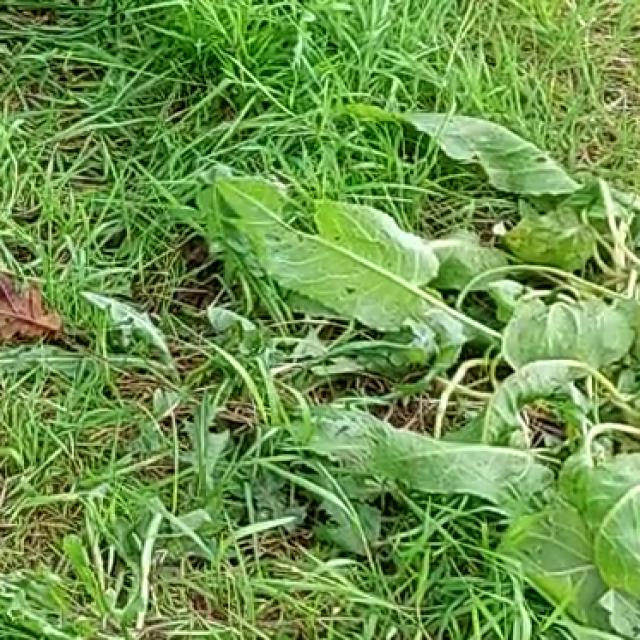organic waste: (261, 131, 640, 640)
